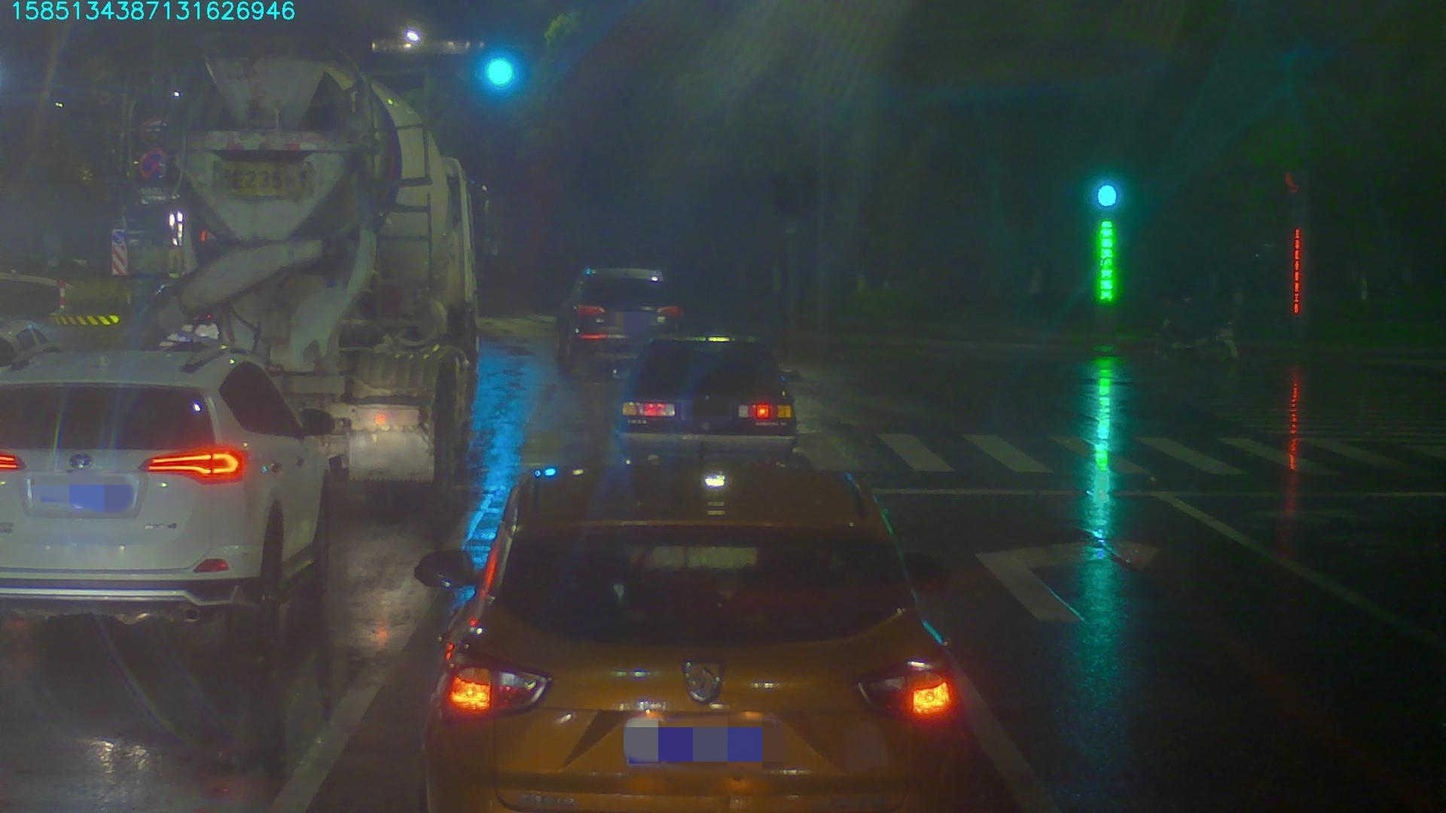green: (476, 52, 526, 90)
